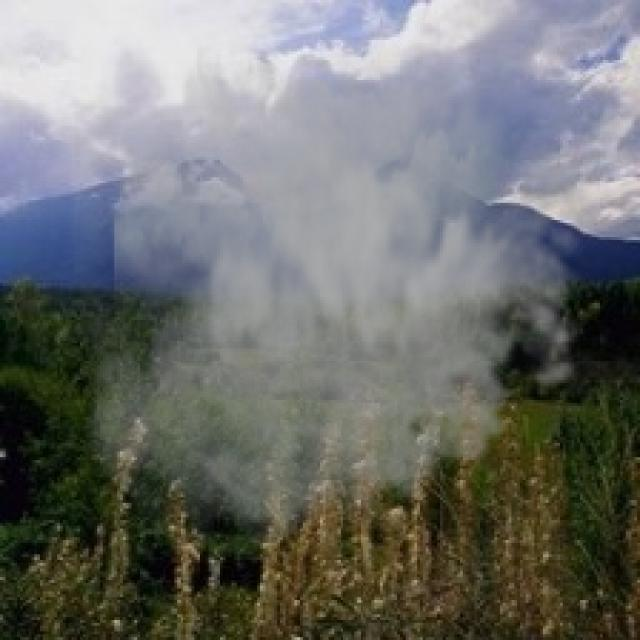smoke: (75, 8, 614, 563)
